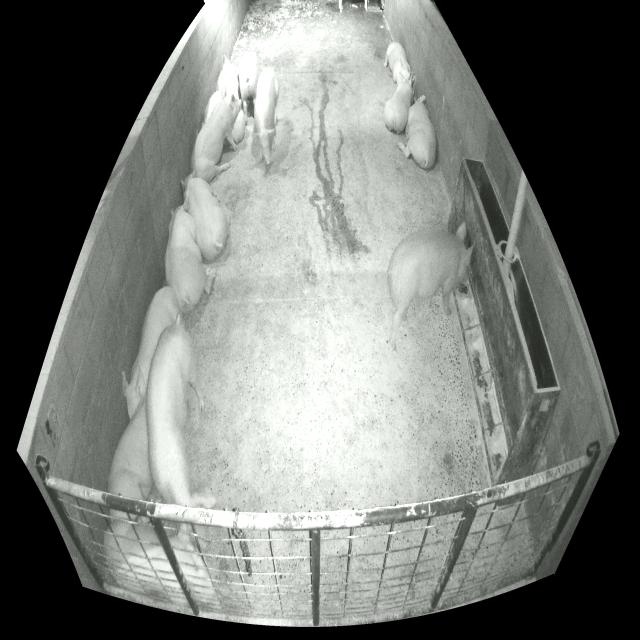pig: (146, 314, 216, 509), (387, 223, 472, 345), (104, 521, 216, 607), (123, 287, 179, 420), (190, 93, 242, 183), (166, 199, 207, 306), (108, 400, 152, 499), (181, 171, 228, 260), (397, 95, 436, 169), (251, 68, 279, 164), (385, 75, 415, 134), (384, 42, 414, 86), (239, 52, 259, 118), (217, 56, 239, 99), (202, 91, 222, 128)
